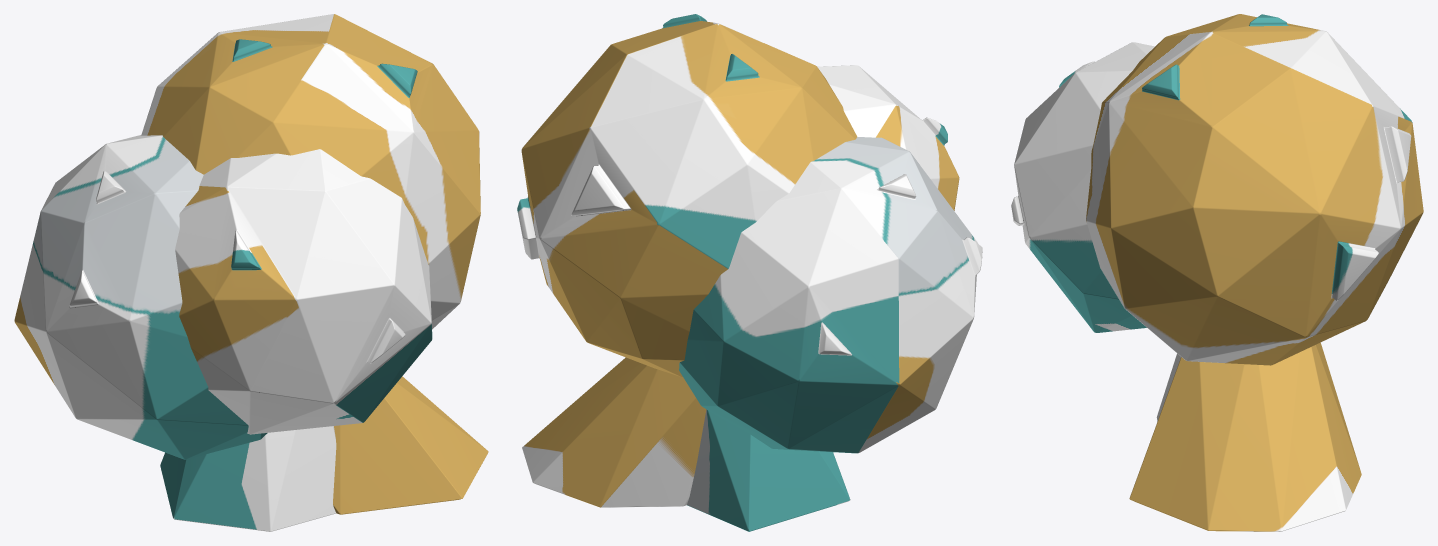
The model's file is Berry_Bush_Asset_1.fbx.
The picture shows the model from 3 angles, left to right: view 1: azimuth 30°, elevation 25°; view 2: azimuth 150°, elevation 25°; view 3: azimuth 270°, elevation 25°; orthographic projection. The views are drawn at different scales.
Visible parts, largest first — view 1: Berry_Bush_Asset_1; view 2: Berry_Bush_Asset_1; view 3: Berry_Bush_Asset_1.
Part boxes in pixels (left/top/right/bottom): Berry_Bush_Asset_1: left=14, top=14, right=488, bottom=531; Berry_Bush_Asset_1: left=517, top=14, right=982, bottom=531; Berry_Bush_Asset_1: left=1011, top=14, right=1423, bottom=531.
Size of the model in its own units: 147 by 145 by 128.
